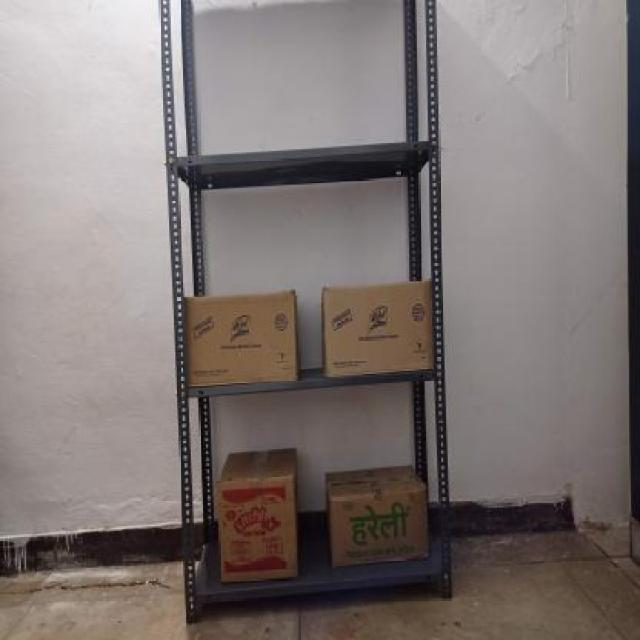box: (183, 290, 297, 386), (321, 281, 437, 371), (332, 485, 430, 570), (217, 477, 294, 585)
